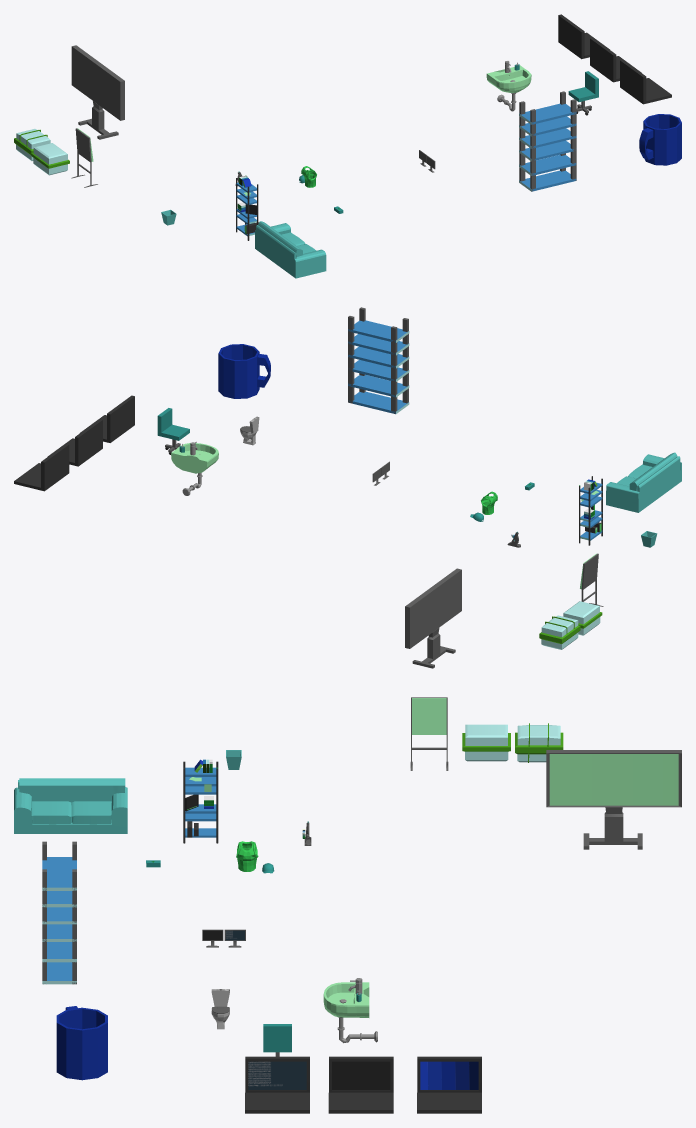
The model's file is help.fbx.
3 renders of one model, top to bottom at view 1: azimuth 30°, elevation 25°; view 2: azimuth 150°, elevation 25°; view 3: azimuth 270°, elevation 25°, orthographic. The views are drawn at different scales.
Parts seen in each view (by area): view 1: kast, bord, bank, mug, laptop2, kastem, sink, laptop, laptop1, alle_3d_models:polySurface287, alle_3d_models:polySurface288, chair (+1 smaller); view 2: kast, bord, bank, mug, laptop, sink, kastem, laptop1, alle_3d_models:polySurface288, laptop2, alle_3d_models:polySurface287, chair (+1 smaller); view 3: bord, bank, kast, laptop1, laptop2, laptop, mug, kastem, sink, alle_3d_models:polySurface287, alle_3d_models:polySurface279, alle_3d_models:polySurface288 (+2 smaller).
Part boxes in pixels (x1=…): kast: x1=519, y1=91, x2=576, y2=191; bord: x1=71, y1=45, x2=124, y2=139; bank: x1=255, y1=221, x2=326, y2=278; mug: x1=639, y1=114, x2=681, y2=165; laptop2: x1=620, y1=59, x2=671, y2=104; kastem: x1=236, y1=175, x2=258, y2=240; sink: x1=486, y1=61, x2=531, y2=111; laptop: x1=558, y1=14, x2=609, y2=59; laptop1: x1=590, y1=37, x2=641, y2=82; alle_3d_models:polySurface287: x1=31, y1=143, x2=69, y2=175; alle_3d_models:polySurface288: x1=14, y1=129, x2=50, y2=160; chair: x1=568, y1=71, x2=598, y2=115; kast: x1=348, y1=307, x2=409, y2=414; bord: x1=405, y1=568, x2=461, y2=668; bank: x1=606, y1=452, x2=681, y2=512; mug: x1=218, y1=344, x2=270, y2=398; laptop: x1=14, y1=443, x2=69, y2=491; sink: x1=171, y1=441, x2=218, y2=495; kastem: x1=579, y1=476, x2=602, y2=545; laptop1: x1=47, y1=419, x2=102, y2=466; alle_3d_models:polySurface288: x1=539, y1=615, x2=580, y2=649; laptop2: x1=80, y1=395, x2=134, y2=442; alle_3d_models:polySurface287: x1=563, y1=601, x2=602, y2=635; chair: x1=157, y1=408, x2=189, y2=454; bord: x1=546, y1=750, x2=681, y2=849; bank: x1=14, y1=778, x2=127, y2=833; kast: x1=42, y1=841, x2=76, y2=984; laptop1: x1=328, y1=1056, x2=393, y2=1113; laptop2: x1=245, y1=1056, x2=309, y2=1113; laptop: x1=417, y1=1056, x2=481, y2=1113; mug: x1=56, y1=1006, x2=107, y2=1080; kastem: x1=183, y1=759, x2=218, y2=843; sink: x1=323, y1=978, x2=377, y2=1043; alle_3d_models:polySurface287: x1=462, y1=724, x2=510, y2=761; alle_3d_models:polySurface279: x1=410, y1=697, x2=448, y2=770; alle_3d_models:polySurface288: x1=515, y1=723, x2=563, y2=762.
Bounding box in the file's own units: 48.44 × 9.56 × 36.89.
